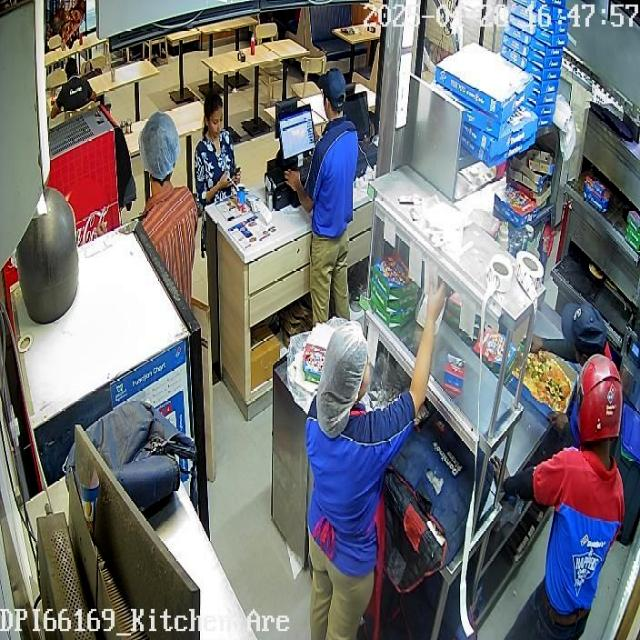helmet: (576, 353, 621, 446)
no_helmet: (203, 89, 224, 140)
